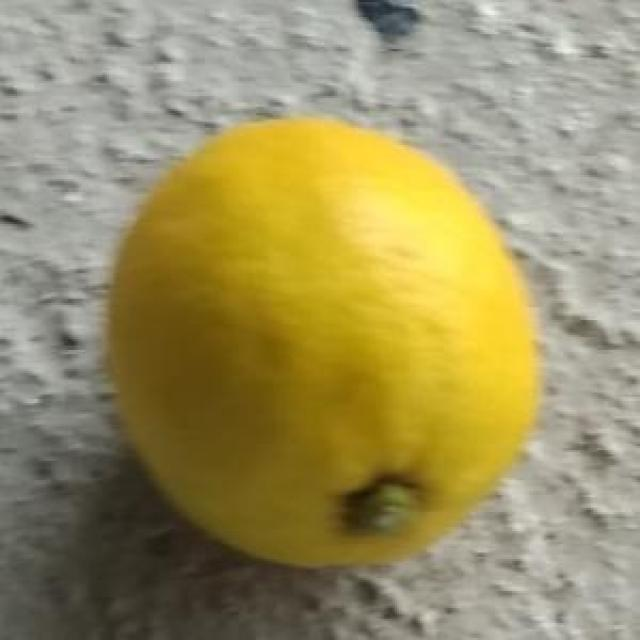lemon: (102, 116, 546, 569)
